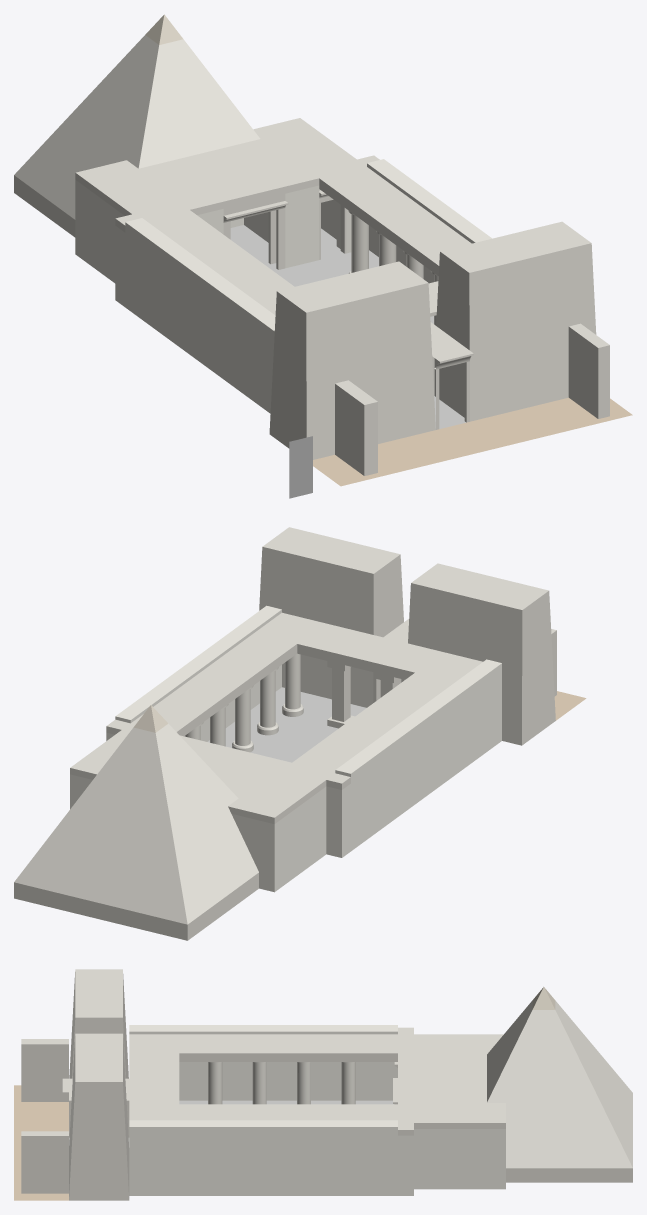
File: Tasahur_ST5.glb
3 renders of one model, top to bottom at view 1: azimuth 30°, elevation 25°; view 2: azimuth 150°, elevation 25°; view 3: azimuth 270°, elevation 25°, orthographic. The views are drawn at different scales.
Visible parts, largest first — view 1: Mesh19 main1 Model, Mesh20 Model, Mesh14 Back_Roof1 Model, Mesh17 ROOF1 Model, Mesh18 PylonGateway1 Model, Mesh7 Main_CHapel1 Model, Mesh22 Model, Mesh11 Round_Column8 Model; view 2: Mesh19 main1 Model, Mesh20 Model, Mesh17 ROOF1 Model, Mesh14 Back_Roof1 Model, Mesh13 Square_Column2 Model, Mesh8 Round_Column5 Model, Mesh6 Round_Column4 Model, Mesh3 Round_Column2 Model; view 3: Mesh19 main1 Model, Mesh20 Model, Mesh17 ROOF1 Model, Mesh14 Back_Roof1 Model, Mesh10 Round_Column7 Model, Mesh9 Round_Column6 Model, Mesh12 Round_Column9 Model, Mesh15 Round_Column10 Model, Mesh18 PylonGateway1 Model.
Part boxes in pixels (box(x1,y1,x2,y2)): Mesh19 main1 Model: box(75, 159, 632, 486); Mesh20 Model: box(14, 14, 260, 237); Mesh14 Back_Roof1 Model: box(75, 118, 379, 232); Mesh17 ROOF1 Model: box(146, 166, 471, 316); Mesh18 PylonGateway1 Model: box(430, 322, 473, 429); Mesh7 Main_CHapel1 Model: box(223, 194, 288, 269); Mesh22 Model: box(289, 436, 312, 498); Mesh11 Round_Column8 Model: box(348, 210, 368, 273); Mesh19 main1 Model: box(106, 527, 586, 891); Mesh20 Model: box(14, 705, 274, 940); Mesh17 ROOF1 Model: box(131, 612, 482, 772); Mesh14 Back_Roof1 Model: box(70, 719, 350, 824); Mesh13 Square_Column2 Model: box(327, 661, 354, 728); Mesh8 Round_Column5 Model: box(257, 667, 278, 735); Mesh6 Round_Column4 Model: box(282, 653, 303, 716); Mesh3 Round_Column2 Model: box(232, 685, 253, 752); Mesh19 main1 Model: box(14, 969, 505, 1200); Mesh20 Model: box(487, 987, 632, 1182); Mesh17 ROOF1 Model: box(129, 1034, 397, 1120); Mesh14 Back_Roof1 Model: box(398, 1027, 505, 1135); Mesh10 Round_Column7 Model: box(341, 1062, 355, 1104); Mesh9 Round_Column6 Model: box(208, 1062, 222, 1104); Mesh12 Round_Column9 Model: box(252, 1062, 266, 1104); Mesh15 Round_Column10 Model: box(297, 1062, 310, 1104); Mesh18 PylonGateway1 Model: box(62, 1078, 129, 1137).
Size of the model in its own units: 10.1 by 5.5 by 19.49.
